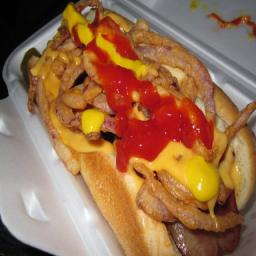hotdog: (27, 1, 256, 255)
